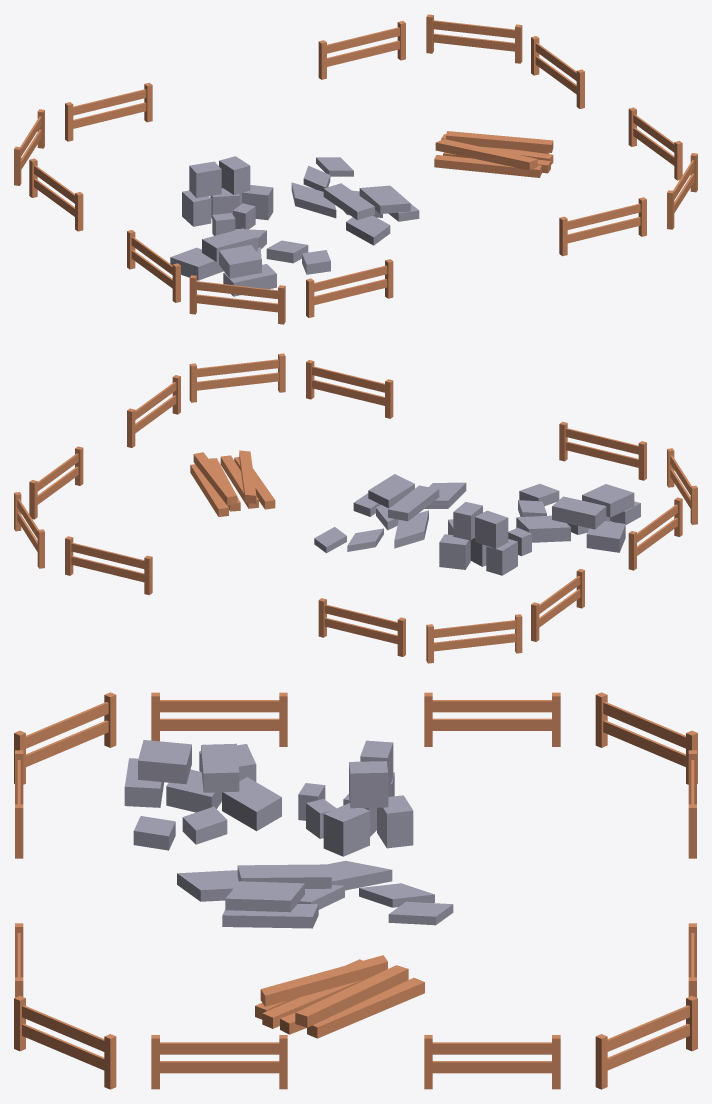
File: Chateau_plan.fbx
3 renders of one model, top to bottom at view 1: azimuth 30°, elevation 25°; view 2: azimuth 150°, elevation 25°; view 3: azimuth 270°, elevation 25°, orthographic. The views are drawn at different scales.
Visible parts, largest first — view 1: debris_bricks_12, debris_bricks_13, debris_bricks_14, debris_wood_15, fence_wood_8, fence_wood_11, fence_wood_2, fence_wood_5, fence_wood_1, fence_wood_6, fence_wood_3, fence_wood_4 (+4 smaller); view 2: debris_bricks_12, debris_bricks_13, debris_bricks_14, debris_wood_15, fence_wood_10, fence_wood_9, fence_wood_6, fence_wood_1, fence_wood_5, fence_wood_2, fence_wood_7, fence_wood_0 (+4 smaller); view 3: debris_bricks_12, debris_bricks_13, debris_wood_15, debris_bricks_14, fence_wood_0, fence_wood_3, fence_wood_4, fence_wood_7, fence_wood_8, fence_wood_10, fence_wood_9, fence_wood_11 (+4 smaller).
Boxes of the visible parts, x1,y1,x2,y2 form: debris_bricks_12: (170, 228, 330, 296); debris_bricks_13: (291, 157, 419, 245); debris_bricks_14: (182, 156, 273, 235); debris_wood_15: (434, 131, 553, 177); fence_wood_8: (426, 14, 522, 63); fence_wood_11: (189, 275, 285, 324); fence_wood_2: (65, 82, 152, 141); fence_wood_5: (559, 197, 646, 256); fence_wood_1: (318, 21, 405, 79); fence_wood_6: (306, 259, 393, 317); fence_wood_3: (29, 158, 83, 231); fence_wood_4: (628, 107, 682, 180); debris_bricks_12: (516, 484, 640, 552); debris_bricks_13: (314, 474, 466, 553); debris_bricks_14: (439, 502, 531, 575); debris_wood_15: (190, 450, 275, 516); fence_wood_10: (189, 353, 285, 402); fence_wood_9: (426, 614, 522, 663); fence_wood_6: (559, 421, 646, 480); fence_wood_1: (65, 536, 152, 595); fence_wood_5: (306, 360, 393, 418); fence_wood_2: (318, 598, 405, 656); fence_wood_7: (628, 497, 682, 570); fence_wood_0: (29, 446, 83, 519); debris_bricks_12: (124, 740, 281, 850); debris_bricks_13: (177, 860, 453, 928); debris_wood_15: (255, 955, 424, 1038); debris_bricks_14: (298, 740, 413, 856); fence_wood_0: (424, 1035, 560, 1089); fence_wood_3: (424, 692, 560, 746); fence_wood_4: (151, 1035, 287, 1089); fence_wood_7: (151, 692, 287, 746); fence_wood_8: (595, 996, 697, 1089); fence_wood_10: (14, 996, 116, 1089); fence_wood_9: (595, 692, 697, 784); fence_wood_11: (14, 692, 116, 784).
Bounding box in the file's own units: 60.14 × 5.61 × 50.14.
